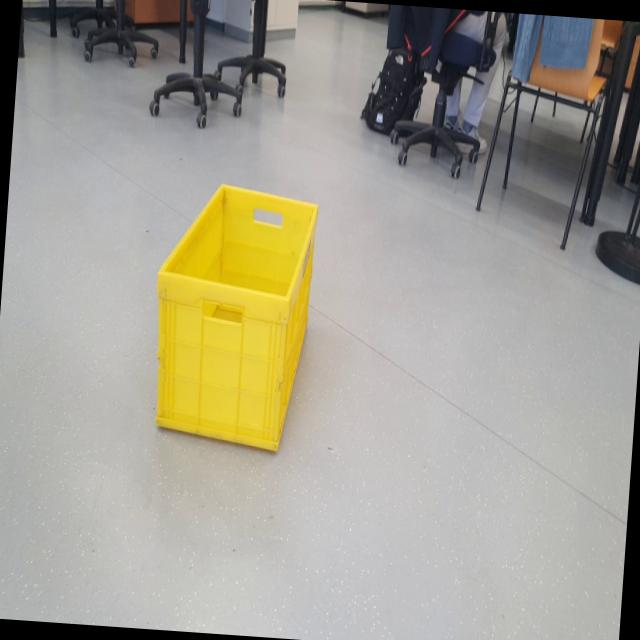box: (139, 167, 326, 488)
